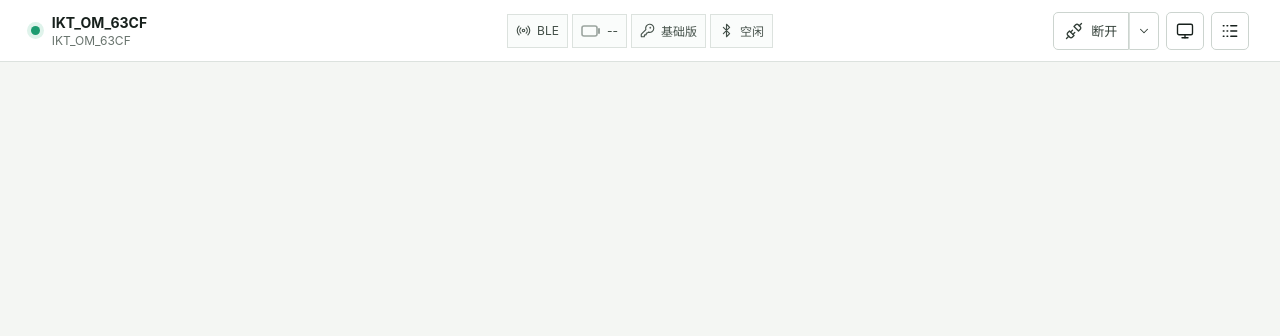
keeps a reported device label visible when it equals the Bluetooth name
Click the button with class "connection-menu-toggle" at point(1144, 30), box [1129,12,1159,50]
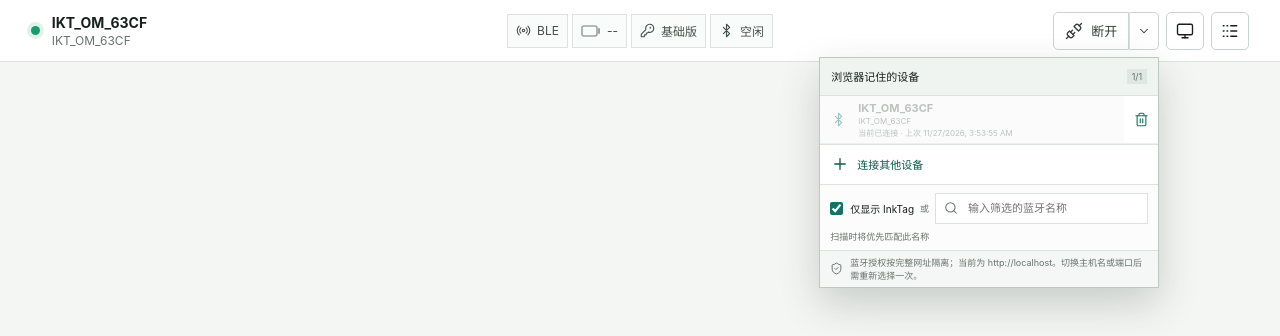
Expected: the 1st text "IKT_OM_63CF" is shown, [52,14,147,30]
Expected: the 3rd text "IKT_OM_63CF" is shown, [858,100,933,114]
Expected: the text with class "known-device-name" reads "IKT_OM_63CF", [858,116,911,126]
